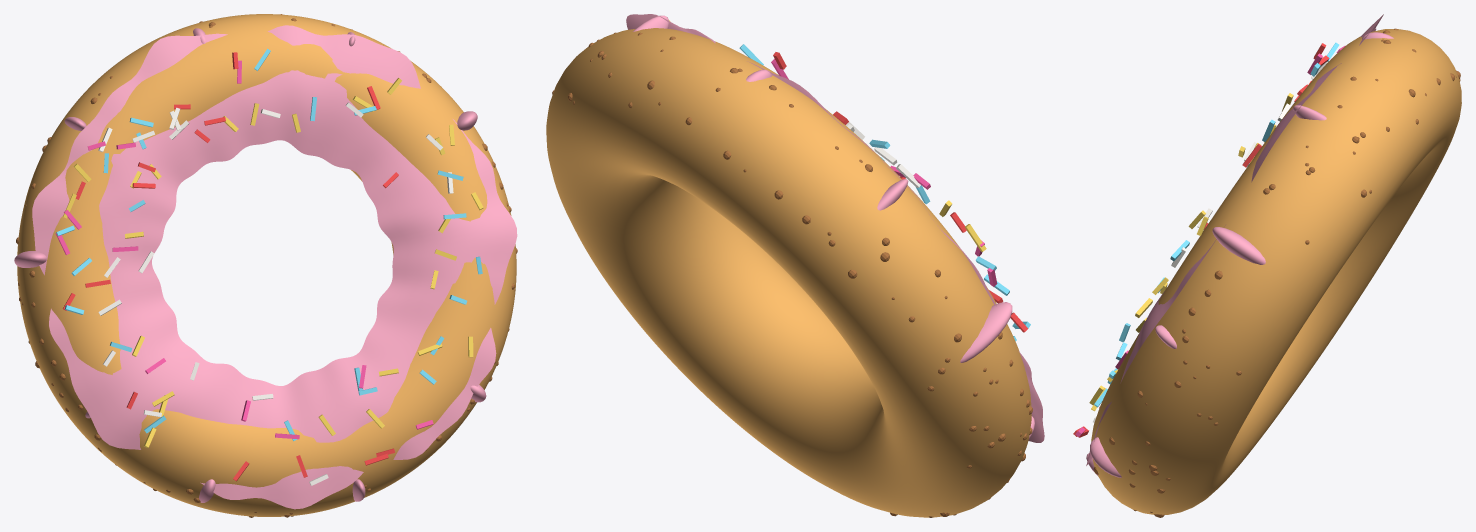
The model's file is rotating_angled_donut.glb.
3 views of the same model, side by side, from view 1: azimuth 30°, elevation 25°; view 2: azimuth 150°, elevation 25°; view 3: azimuth 270°, elevation 25° (orthographic). The views are drawn at different scales.
Visible parts, largest first — view 1: wavy_pink_icing, golden_donut_body; view 2: golden_donut_body, wavy_pink_icing, rounded_icing_drip_6; view 3: golden_donut_body, wavy_pink_icing, rounded_icing_drip_2, rounded_icing_drip_10.
Part boxes in pixels (bbox=[...]): wavy_pink_icing: bbox=[32, 25, 517, 509]; golden_donut_body: bbox=[17, 14, 516, 516]; golden_donut_body: bbox=[546, 28, 1031, 517]; wavy_pink_icing: bbox=[626, 14, 1044, 442]; rounded_icing_drip_6: bbox=[960, 302, 1012, 362]; golden_donut_body: bbox=[1091, 29, 1461, 514]; wavy_pink_icing: bbox=[1086, 14, 1383, 465]; rounded_icing_drip_2: bbox=[1212, 227, 1265, 264]; rounded_icing_drip_10: bbox=[1090, 437, 1121, 477].
Size of the model in its own units: 3.03 by 2.85 by 2.18.
